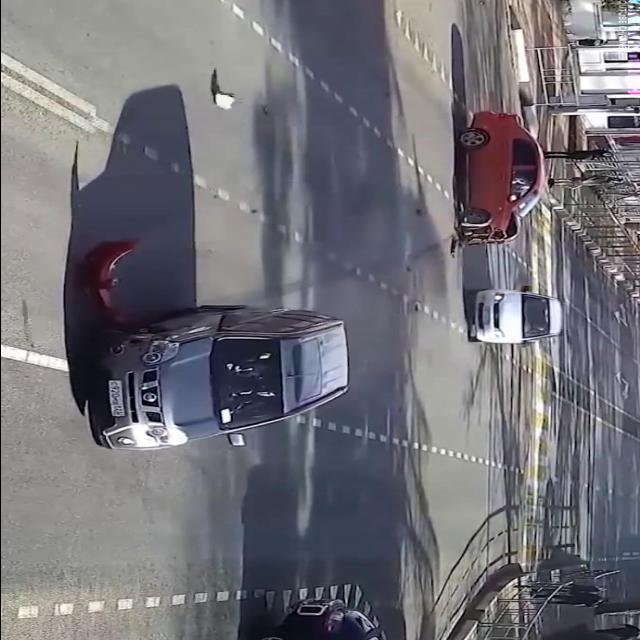accident: (41, 228, 362, 462), (438, 108, 554, 264)
